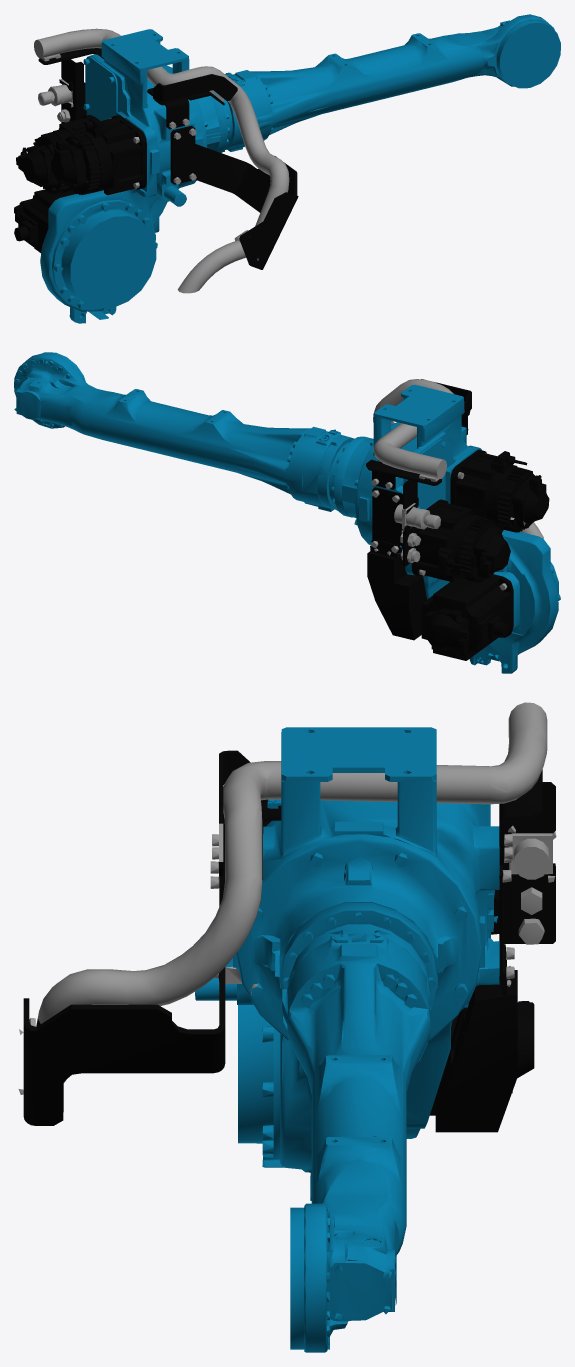
3 views of the same model, one above another, from view 1: azimuth 30°, elevation 25°; view 2: azimuth 150°, elevation 25°; view 3: azimuth 270°, elevation 25° (orthographic). The views are drawn at different scales.
Visible parts, largest first — view 1: pl80_lk3; view 2: pl80_lk3; view 3: pl80_lk3.
Part boxes in pixels (left/top/right/bottom): pl80_lk3: left=14, top=14, right=560, bottom=323; pl80_lk3: left=14, top=352, right=560, bottom=673; pl80_lk3: left=18, top=702, right=556, bottom=1352.
Bounding box in the file's own units: 1.23 × 0.5553 × 0.5645.
